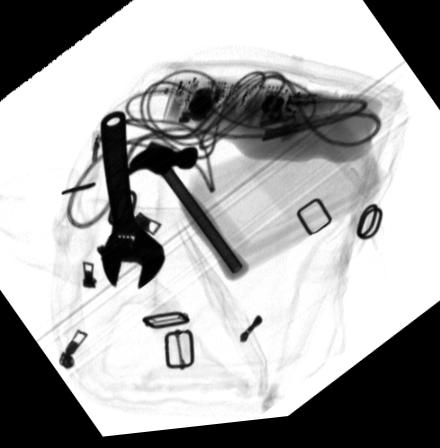Hammer: (124, 144, 248, 287)
Wrench: (100, 112, 165, 292)
